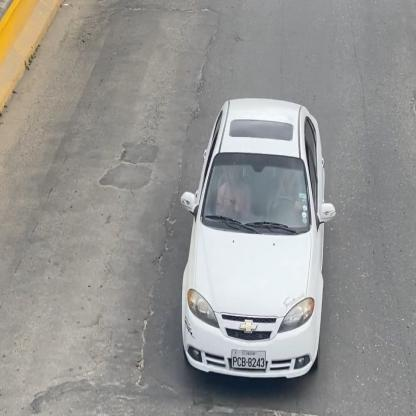Placa: (232, 350, 266, 368)
